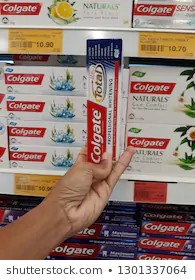gooday-medium: (85, 63, 117, 166), (4, 64, 86, 96), (6, 120, 88, 143), (9, 144, 83, 168), (5, 97, 85, 119)
